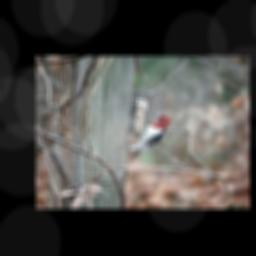Woodpecker: (123, 109, 175, 163)
